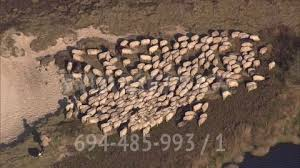sheep: (86, 47, 105, 57), (117, 127, 130, 139), (62, 59, 73, 73), (70, 46, 85, 56), (141, 125, 152, 137), (246, 84, 260, 93), (147, 43, 158, 54), (102, 125, 114, 135), (73, 52, 85, 62), (252, 73, 265, 82), (165, 112, 176, 122), (220, 91, 232, 100), (176, 33, 188, 42), (258, 45, 269, 54), (197, 118, 208, 127), (202, 101, 211, 112), (129, 39, 140, 48), (140, 54, 152, 62), (92, 69, 104, 77), (118, 38, 128, 47), (121, 47, 132, 55), (249, 33, 260, 41), (227, 79, 238, 87), (183, 116, 195, 123), (141, 37, 150, 46), (123, 59, 133, 67), (160, 37, 168, 47), (267, 60, 276, 67), (200, 112, 208, 119)
